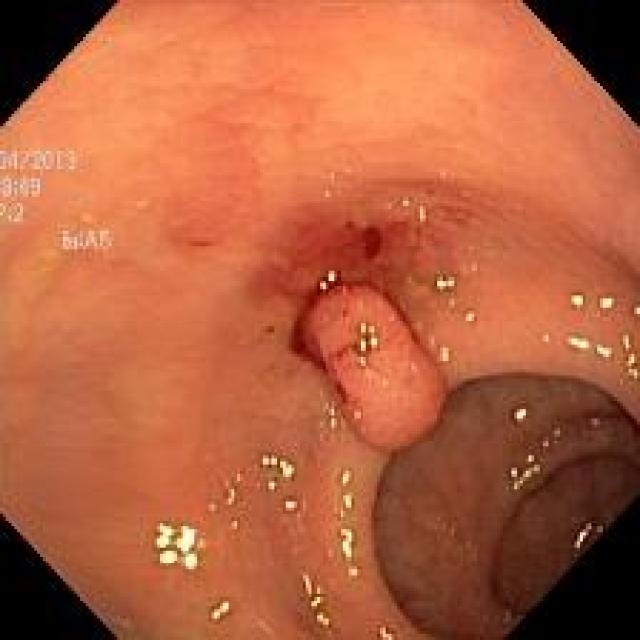Polyps: (299, 283, 446, 452)
